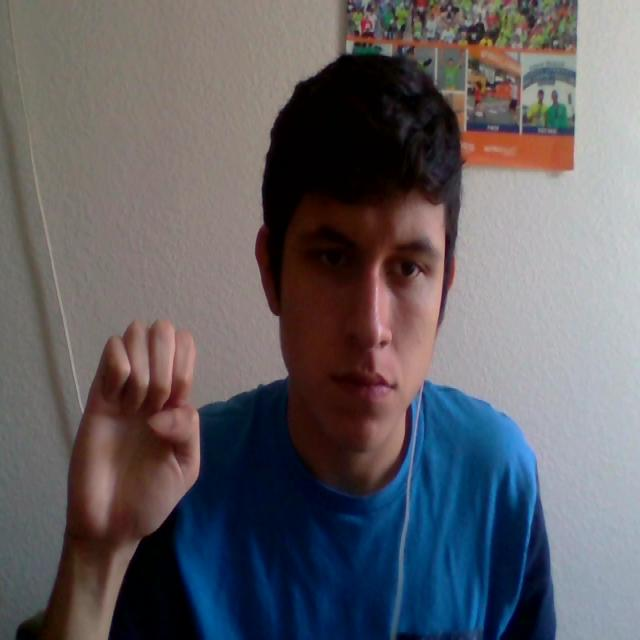E: (60, 276, 215, 589)
